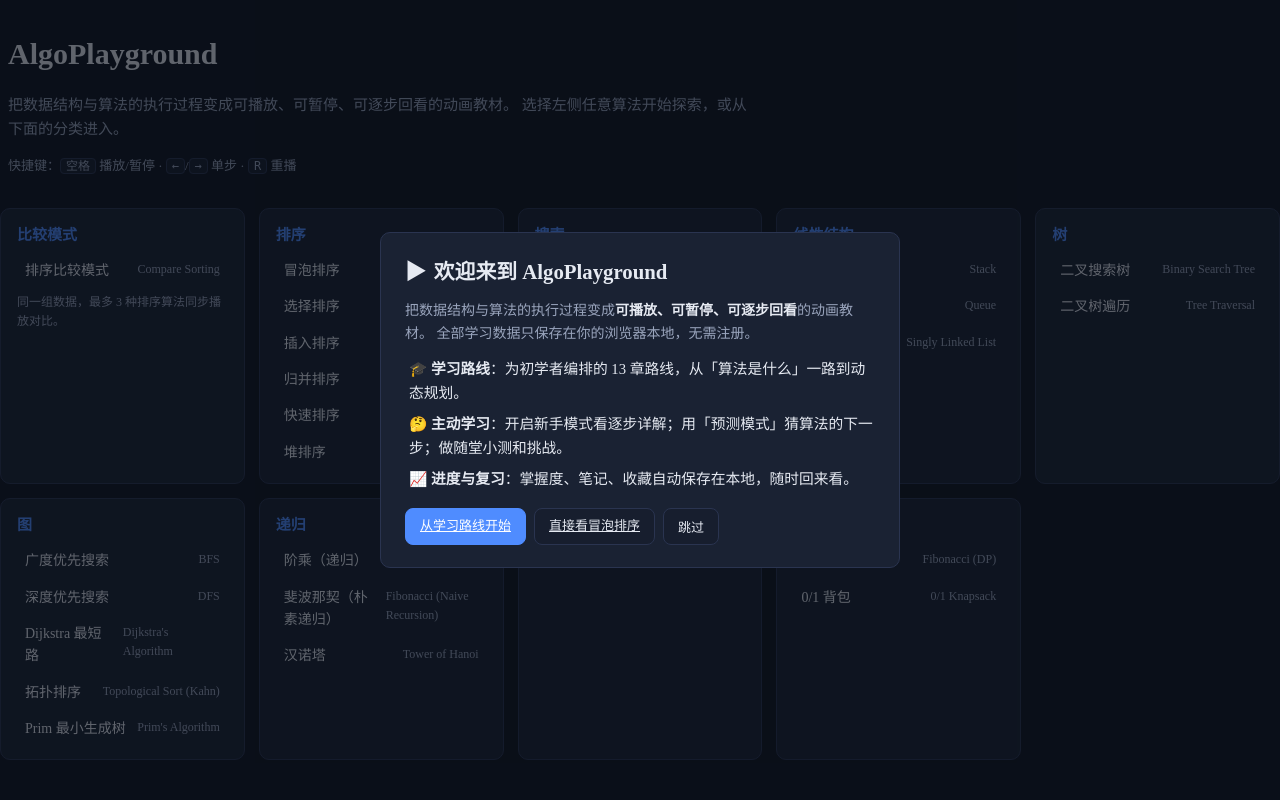
Test: WelcomeCard 首次欢迎 › 首次显示；点击跳过后不再出现
Click the button "跳过" at [691, 526], box x1=663 y1=508 x2=719 y2=545
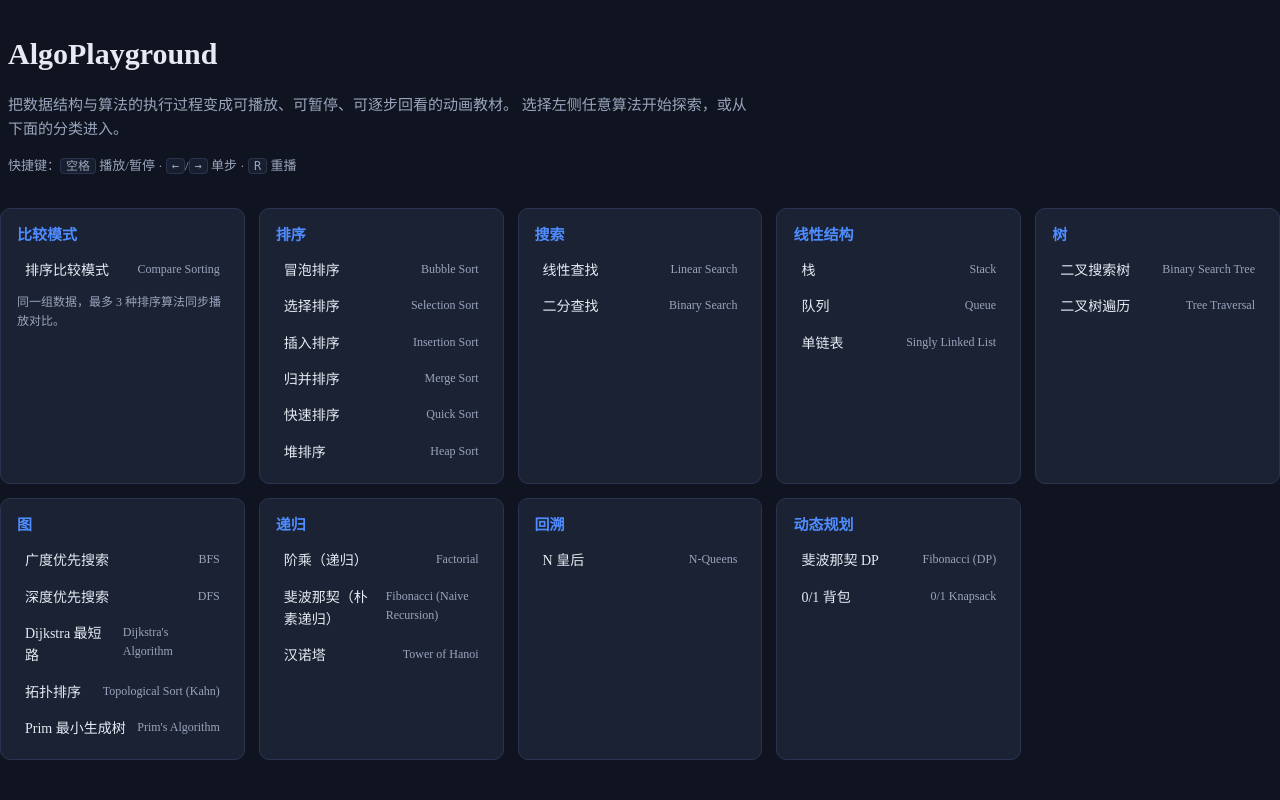
Now the dialog is gone
